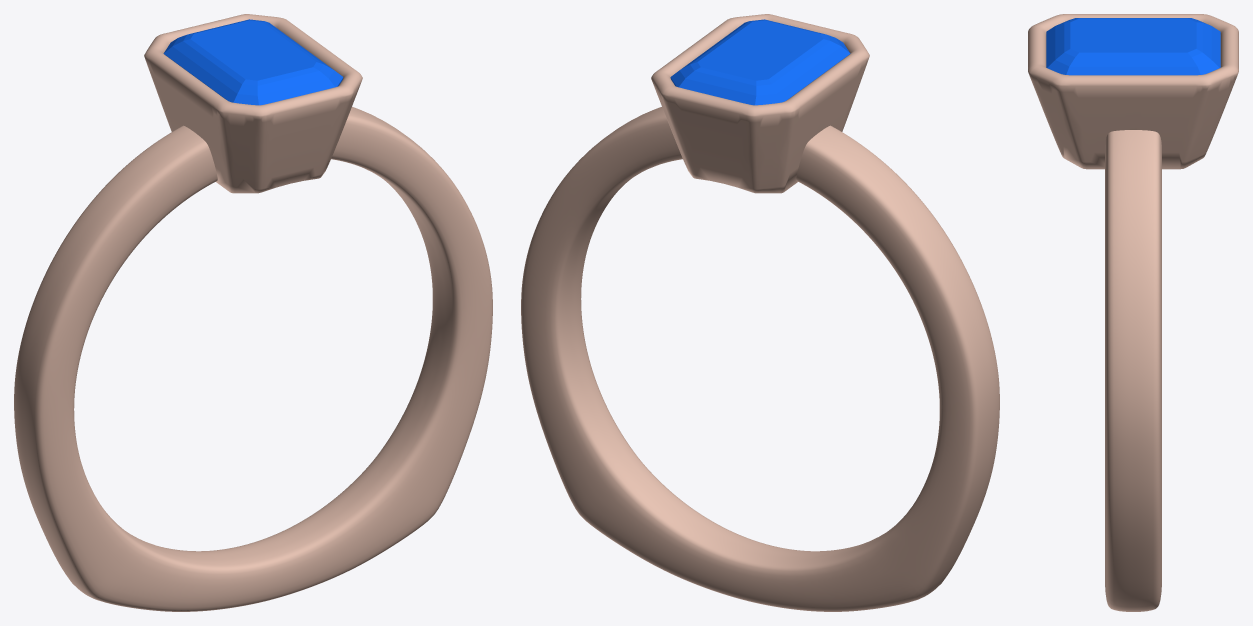
The model's file is bluesapphire-emerald-rosegold-bezelset-europeanshank-solitaire.glb.
The picture shows the model from 3 angles, left to right: view 1: azimuth 30°, elevation 25°; view 2: azimuth 150°, elevation 25°; view 3: azimuth 270°, elevation 25°; orthographic projection.
Visible parts, largest first — view 1: metal, stone; view 2: metal, stone; view 3: metal, stone.
Part boxes in pixels (left/top/right/bottom): metal: left=14, top=14, right=492, bottom=611; stone: left=163, top=19, right=343, bottom=105; metal: left=521, top=14, right=999, bottom=611; stone: left=670, top=19, right=850, bottom=105; metal: left=1028, top=14, right=1238, bottom=611; stone: left=1046, top=18, right=1220, bottom=75.
Bounding box in the file's own units: 20.1 × 22.75 × 8.11.
